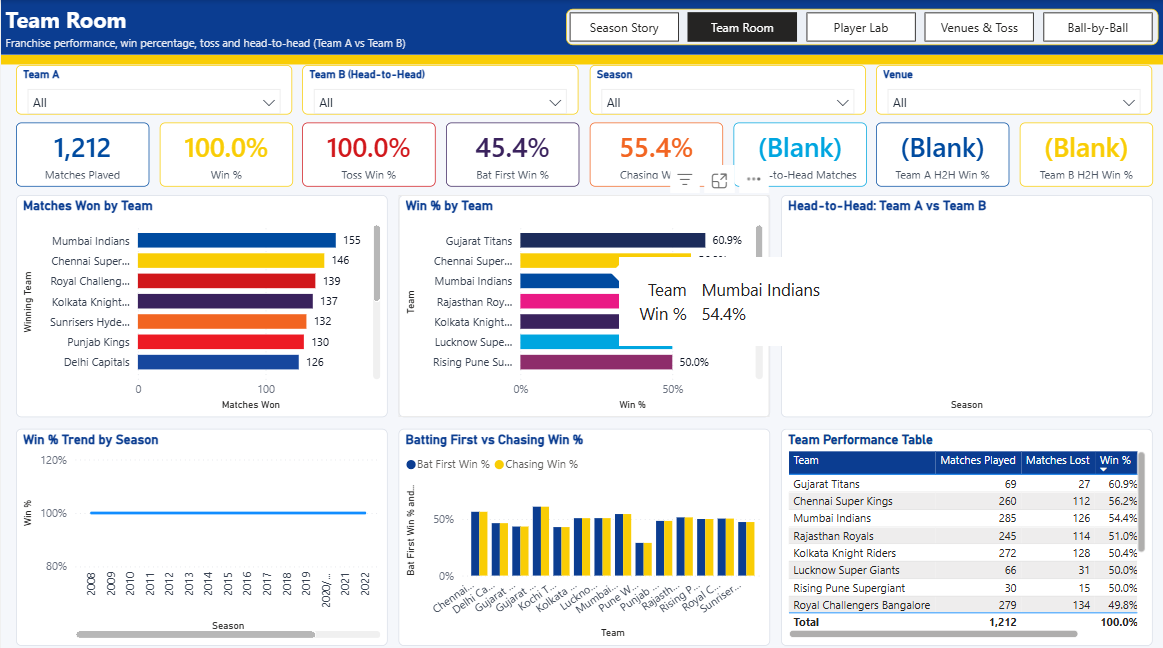

The page's visual inventory and layout, read from the dashboard file:
{"tool":"powerbi","page":{"name":"Team Room","canvas":[1280,720],"ordinal":1},"visuals":[{"type":"textbox","box":[0,0,1280,60],"z":1000},{"type":"textbox","box":[0,60,1280,4],"z":2000},{"type":"pageNavigator","box":[620,10,650,40],"z":3000},{"type":"slicer","title":"Team A","fields":{"Values":["Dim Team.team_name"]},"box":[16,72,303,54],"z":4000},{"type":"slicer","title":"Team B (Head-to-Head)","fields":{"Values":["Dim Opponent.team_name"]},"box":[331,72,303,54],"z":5000},{"type":"slicer","title":"Season","fields":{"Values":["Dim Season.season"]},"box":[646,72,303,54],"z":6000},{"type":"slicer","title":"Venue","fields":{"Values":["Dim Venue.venue"]},"box":[961,72,303,54],"z":7000},{"type":"card","fields":{"Values":["_Measures.Matches Played"]},"box":[16,134,146,70],"z":8000},{"type":"card","fields":{"Values":["_Measures.Win %"]},"box":[174,134,146,70],"z":9000},{"type":"card","fields":{"Values":["_Measures.Toss Win %"]},"box":[331,134,146,70],"z":10000},{"type":"card","fields":{"Values":["_Measures.Bat First Win %"]},"box":[488,134,146,70],"z":11000},{"type":"card","fields":{"Values":["_Measures.Chasing Win %"]},"box":[646,134,146,70],"z":12000},{"type":"card","fields":{"Values":["_Measures.H2H Matches"]},"box":[804,134,146,70],"z":13000},{"type":"card","fields":{"Values":["_Measures.H2H Team A Win %"]},"box":[961,134,146,70],"z":14000},{"type":"card","fields":{"Values":["_Measures.H2H Team B Win %"]},"box":[1118,134,146,70],"z":15000},{"type":"clusteredBarChart","title":"Matches Won by Team","fields":{"Category":["Dim Match Winner.team_name"],"Y":["_Measures.Matches Won"]},"box":[16,214,408,244],"z":16000},{"type":"clusteredBarChart","title":"Win % by Team","fields":{"Category":["Dim Team.team_name"],"Y":["_Measures.Win %"]},"box":[436,214,408,244],"z":17000},{"type":"clusteredColumnChart","title":"Head-to-Head: Team A vs Team B","fields":{"Category":["Dim Season.season"],"Y":["_Measures.H2H Team A Wins","_Measures.H2H Team B Wins"]},"box":[856,214,408,244],"z":18000},{"type":"lineChart","title":"Win % Trend by Season","fields":{"Category":["Dim Season.season"],"Y":["_Measures.Win %"]},"box":[16,470,408,238],"z":19000},{"type":"clusteredColumnChart","title":"Batting First vs Chasing Win %","fields":{"Category":["Dim Team.team_name"],"Y":["_Measures.Bat First Win %","_Measures.Chasing Win %"]},"box":[436,470,408,238],"z":20000},{"type":"tableEx","title":"Team Performance Table","fields":{"Values":["Dim Team.team_name","_Measures.Matches Played","_Measures.Matches Lost","_Measures.Win %","_Measures.Toss Win %"]},"box":[856,470,408,238],"z":21000}]}

Visuals, with their boxes in screenshot pixels (x1, y1, x2, y2), scaled from the page's 1280x720 canvas onto the 1163x648 screenshot:
textbox: {"x1": 0, "y1": 0, "x2": 1162, "y2": 54}
textbox: {"x1": 0, "y1": 54, "x2": 1162, "y2": 58}
pageNavigator: {"x1": 563, "y1": 9, "x2": 1154, "y2": 45}
"Team A" slicer: {"x1": 15, "y1": 65, "x2": 290, "y2": 113}
"Team B (Head-to-Head)" slicer: {"x1": 301, "y1": 65, "x2": 576, "y2": 113}
"Season" slicer: {"x1": 587, "y1": 65, "x2": 862, "y2": 113}
"Venue" slicer: {"x1": 873, "y1": 65, "x2": 1148, "y2": 113}
card - _Measures.Matches Played: {"x1": 15, "y1": 121, "x2": 147, "y2": 184}
card - _Measures.Win %: {"x1": 158, "y1": 121, "x2": 291, "y2": 184}
card - _Measures.Toss Win %: {"x1": 301, "y1": 121, "x2": 433, "y2": 184}
card - _Measures.Bat First Win %: {"x1": 443, "y1": 121, "x2": 576, "y2": 184}
card - _Measures.Chasing Win %: {"x1": 587, "y1": 121, "x2": 720, "y2": 184}
card - _Measures.H2H Matches: {"x1": 731, "y1": 121, "x2": 863, "y2": 184}
card - _Measures.H2H Team A Win %: {"x1": 873, "y1": 121, "x2": 1006, "y2": 184}
card - _Measures.H2H Team B Win %: {"x1": 1016, "y1": 121, "x2": 1148, "y2": 184}
"Matches Won by Team" clusteredBarChart: {"x1": 15, "y1": 193, "x2": 385, "y2": 412}
"Win % by Team" clusteredBarChart: {"x1": 396, "y1": 193, "x2": 767, "y2": 412}
"Head-to-Head: Team A vs Team B" clusteredColumnChart: {"x1": 778, "y1": 193, "x2": 1148, "y2": 412}
"Win % Trend by Season" lineChart: {"x1": 15, "y1": 423, "x2": 385, "y2": 637}
"Batting First vs Chasing Win %" clusteredColumnChart: {"x1": 396, "y1": 423, "x2": 767, "y2": 637}
"Team Performance Table" tableEx: {"x1": 778, "y1": 423, "x2": 1148, "y2": 637}
